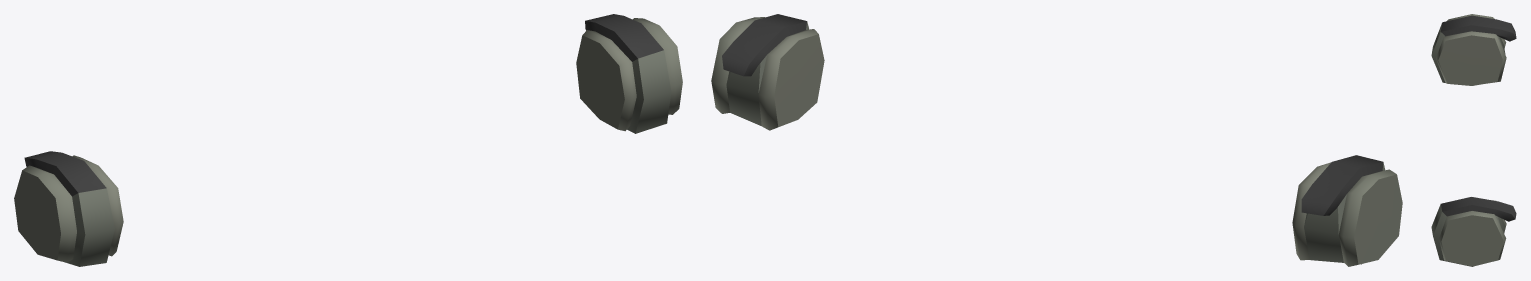
File: Glove_1.fbx
3 views of the same model, side by side, from view 1: azimuth 30°, elevation 25°; view 2: azimuth 150°, elevation 25°; view 3: azimuth 270°, elevation 25° (orthographic). The views are drawn at different scales.
Parts seen in each view (by area): view 1: Glove_1; view 2: Glove_1; view 3: Glove_1.
Boxes of the visible parts, x1,y1,x2,y2 form: Glove_1: [14, 14, 682, 266]; Glove_1: [711, 14, 1402, 266]; Glove_1: [1431, 14, 1516, 266].
Size of the model in its own units: 99.55 by 14.23 by 17.79.
